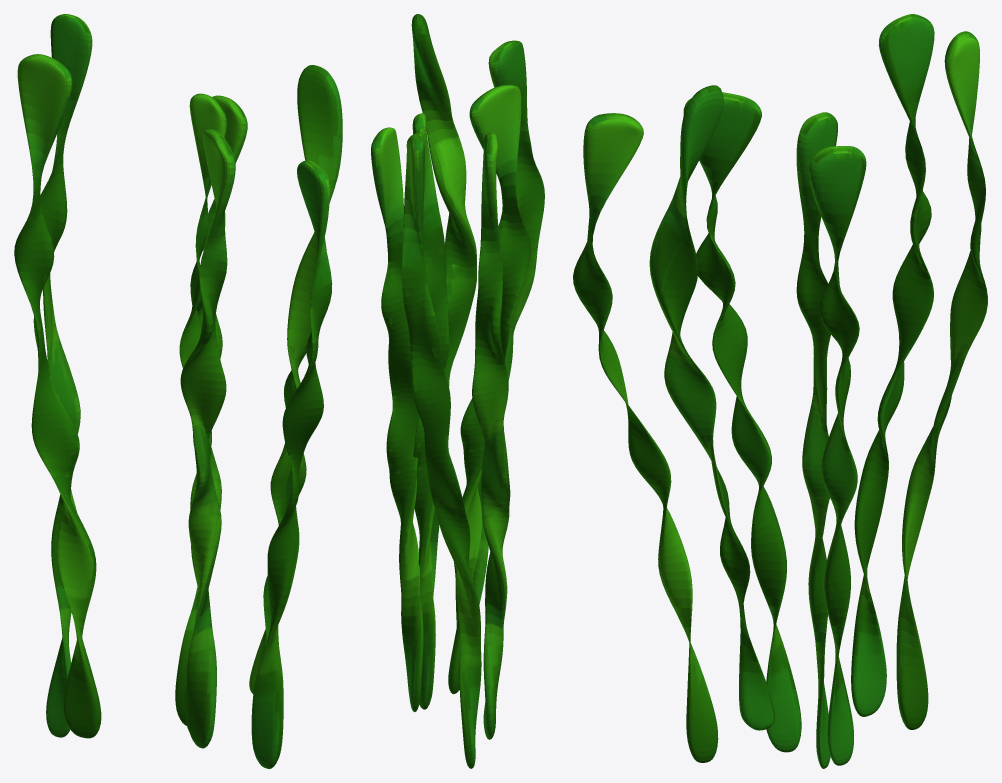
The model's file is seaweed3.glb.
3 renders of one model, left to right at view 1: azimuth 30°, elevation 25°; view 2: azimuth 150°, elevation 25°; view 3: azimuth 270°, elevation 25°, orthographic. The views are drawn at different scales.
Parts seen in each view (by area): view 1: Plane.017; view 2: Plane.017; view 3: Plane.017.
Part boxes in pixels (x1,y1,x2,y2): Plane.017: [14, 14, 342, 768]; Plane.017: [371, 14, 544, 768]; Plane.017: [573, 14, 987, 768].
Bounding box in the file's own units: 4.36 × 13.98 × 7.29.
Materials: 1 (1 with a texture image).
